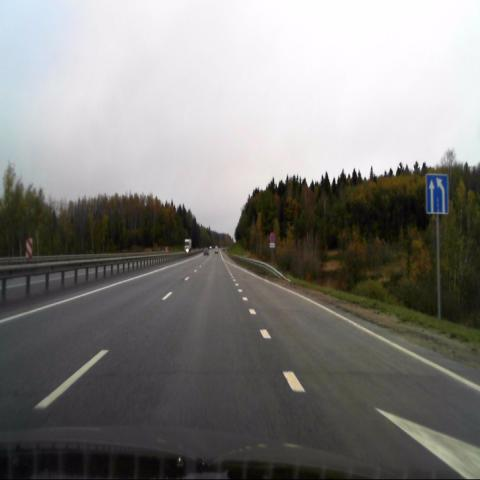5_15_5: (426, 175, 450, 215)
